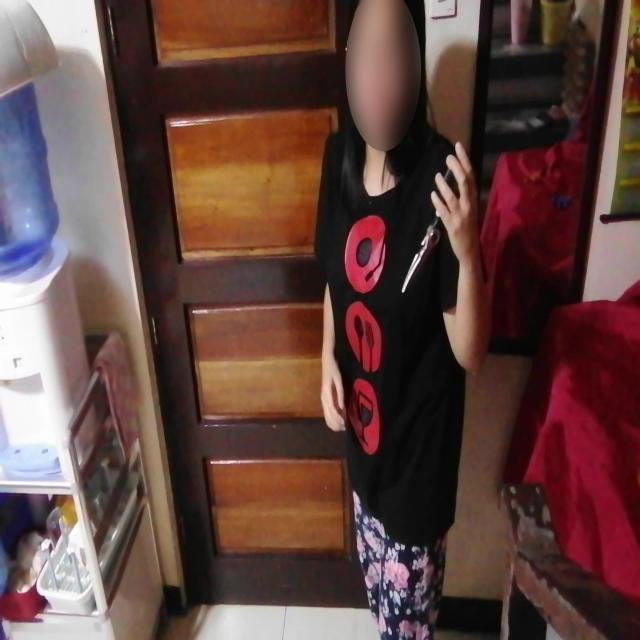scissor: (400, 160, 470, 294)
